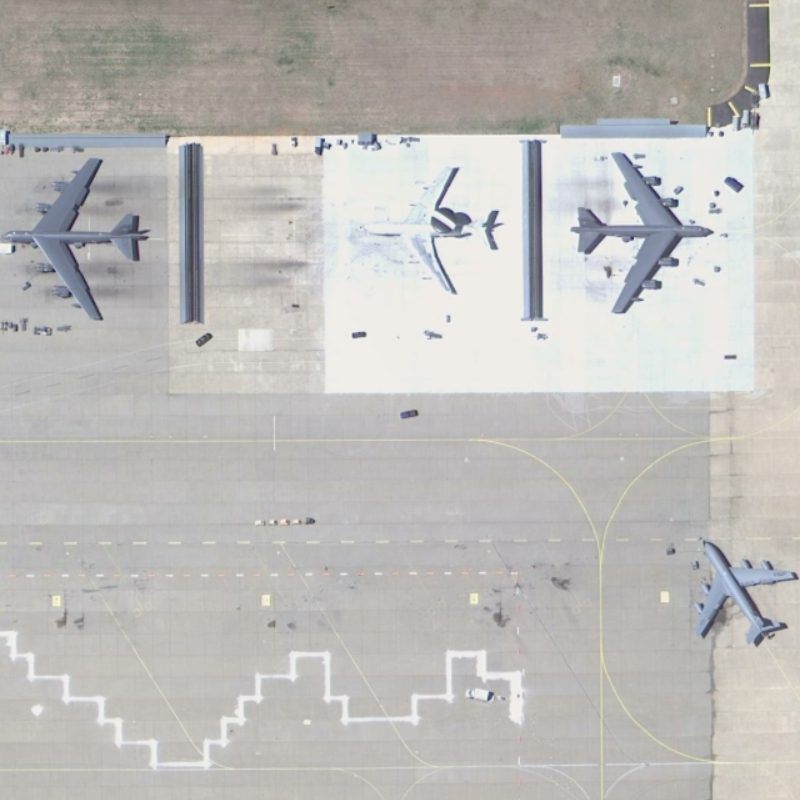A14: (687, 524, 799, 656)
A7: (348, 158, 510, 302)
A8: (1, 150, 159, 328), (569, 143, 716, 321)
